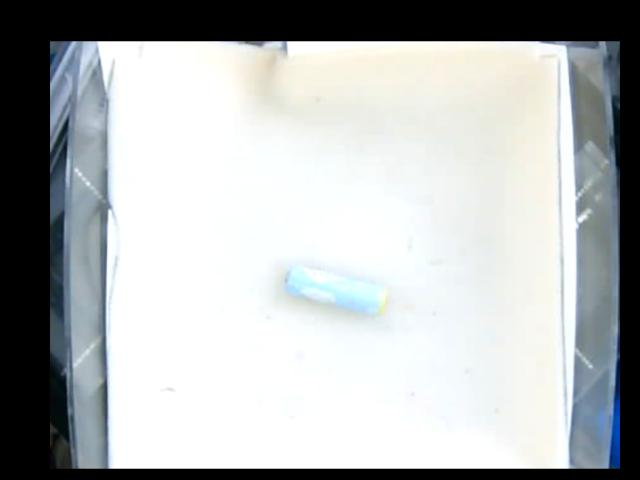Battery: (284, 264, 388, 311)
